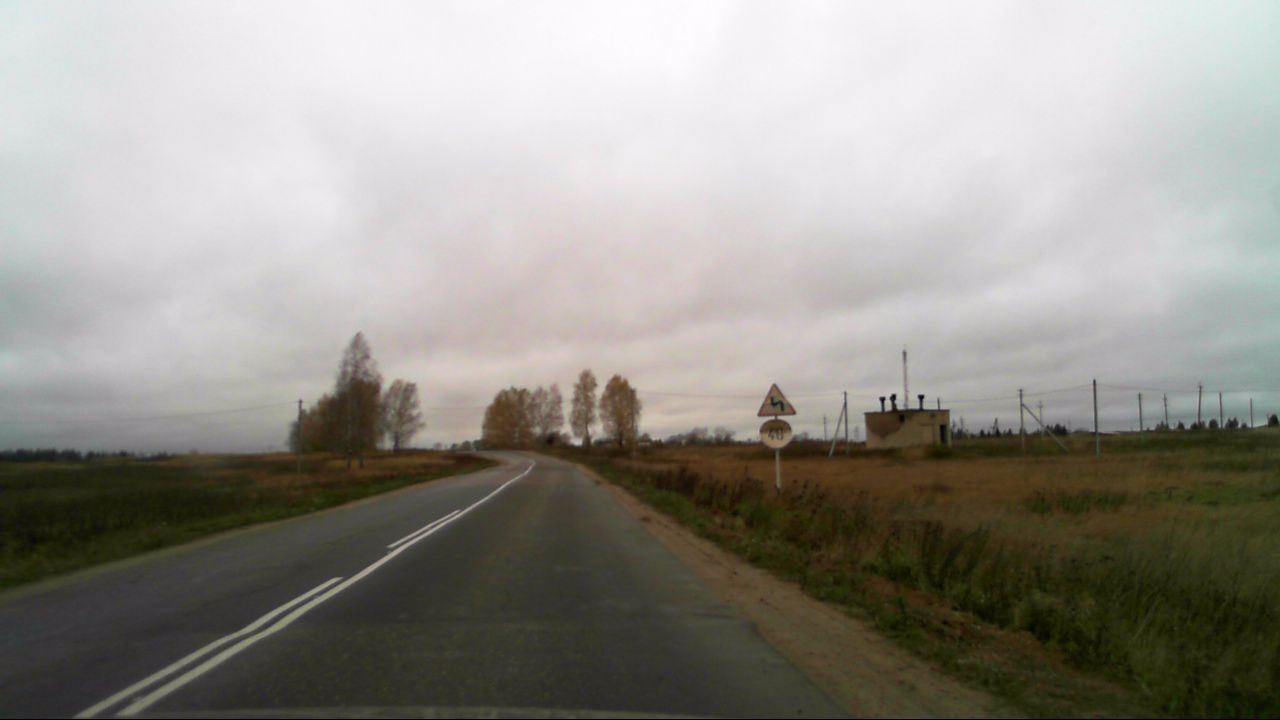speed_warning_40: (760, 418, 794, 450)
